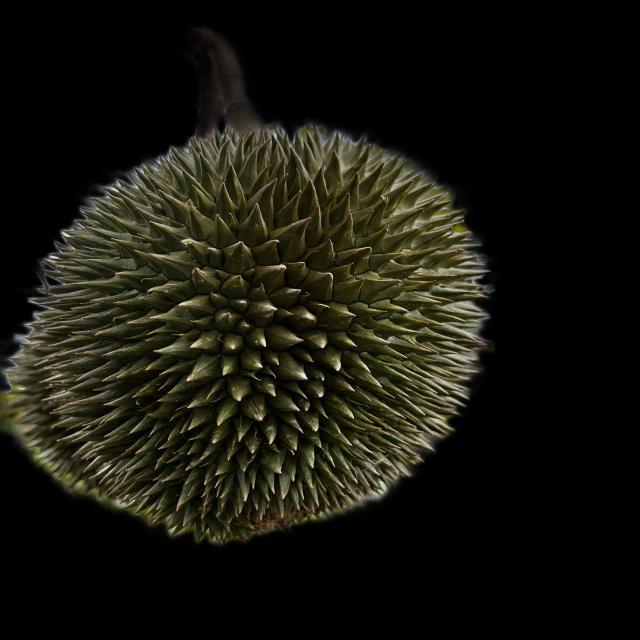immature: (28, 121, 498, 535)
